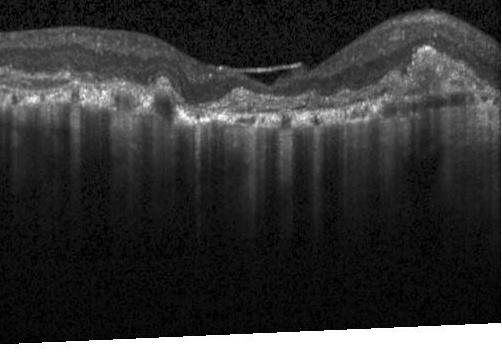subretinal_fluid: (154, 91, 173, 122), (113, 93, 141, 111)
subretinal_hyperreflective_material: (191, 45, 501, 114)
